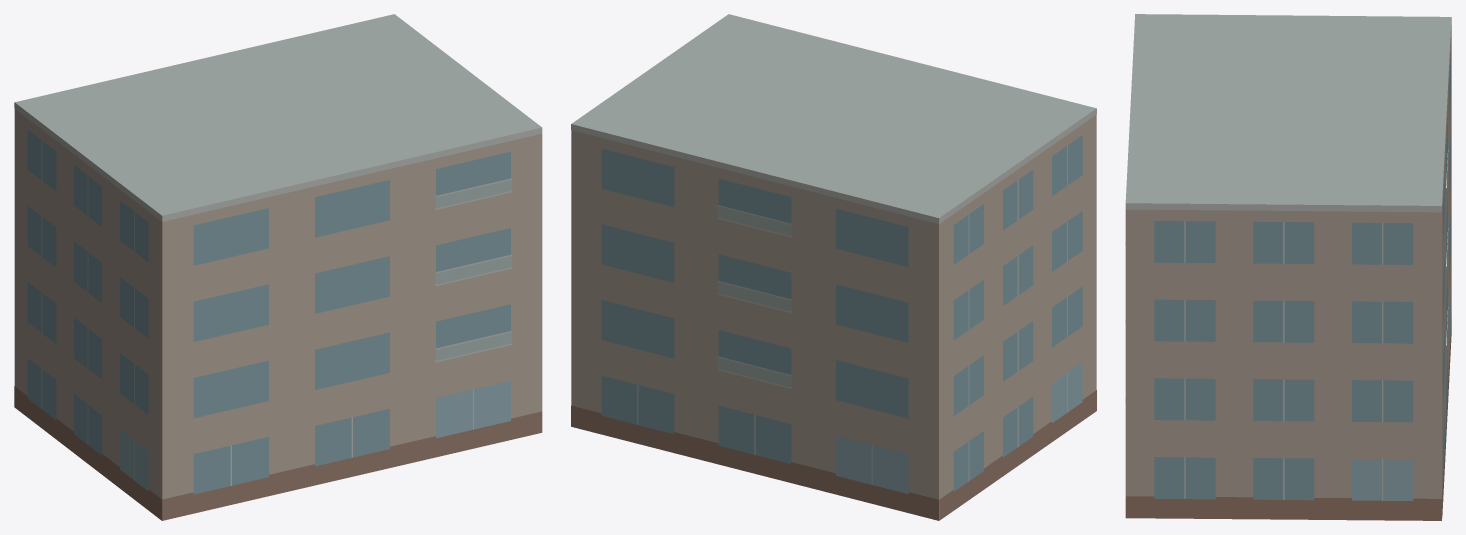
The model's file is residential-9f0e5e89-016a-458a-aeea-ca19fc4ef7f8.glb.
3 views of the same model, side by side, from view 1: azimuth 30°, elevation 25°; view 2: azimuth 150°, elevation 25°; view 3: azimuth 270°, elevation 25° (orthographic). The views are drawn at different scales.
Visible parts, largest first — view 1: residential-9f0e5e89-016a-458a-aeea-ca19fc4ef7f8.tmp; view 2: residential-9f0e5e89-016a-458a-aeea-ca19fc4ef7f8.tmp; view 3: residential-9f0e5e89-016a-458a-aeea-ca19fc4ef7f8.tmp.
Part boxes in pixels (bbox=[...]): residential-9f0e5e89-016a-458a-aeea-ca19fc4ef7f8.tmp: bbox=[14, 14, 542, 520]; residential-9f0e5e89-016a-458a-aeea-ca19fc4ef7f8.tmp: bbox=[571, 14, 1096, 520]; residential-9f0e5e89-016a-458a-aeea-ca19fc4ef7f8.tmp: bbox=[1125, 14, 1451, 520].
Bounding box in the file's own units: 15.96 × 12.2 × 11.46.
